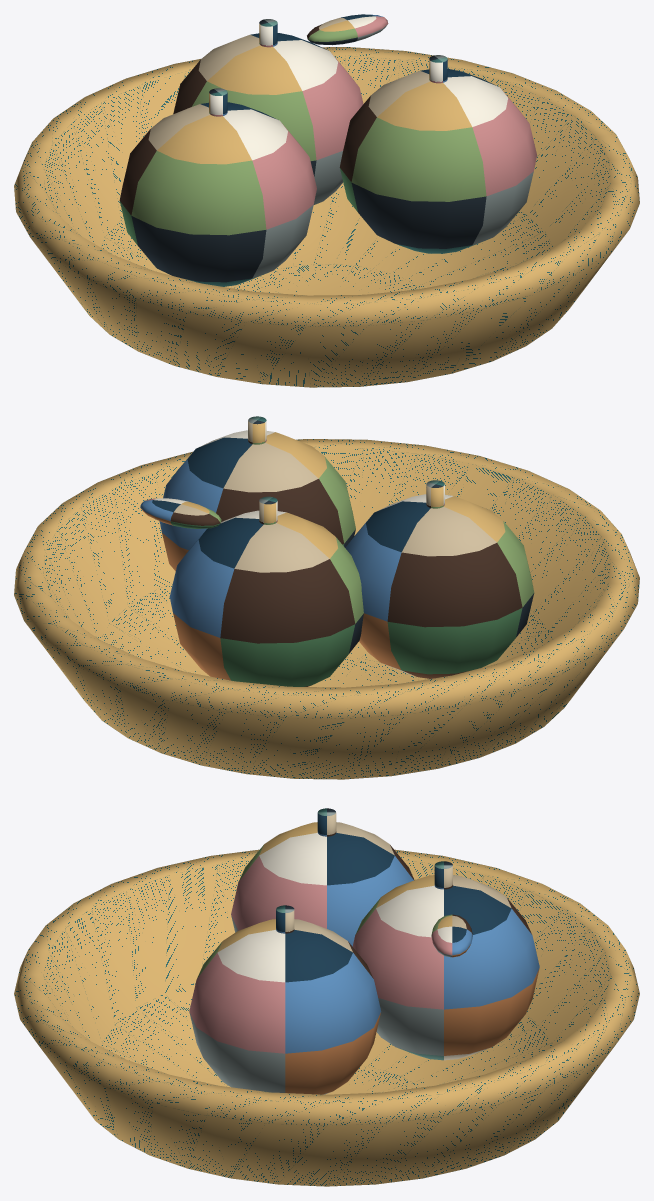
Rendered from FruitBowl.fbx.
3 renders of one model, top to bottom at view 1: azimuth 30°, elevation 25°; view 2: azimuth 150°, elevation 25°; view 3: azimuth 270°, elevation 25°, orthographic.
Parts seen in each view (by area): view 1: FruitBowl; view 2: FruitBowl; view 3: FruitBowl.
Part boxes in pixels (x1,y1,x2,y2): FruitBowl: (14,14,639,387); FruitBowl: (14,416,639,779); FruitBowl: (14,808,639,1186).
Bounding box in the file's own units: 1.5 × 0.69 × 1.5.
1 material, 1 textured.
